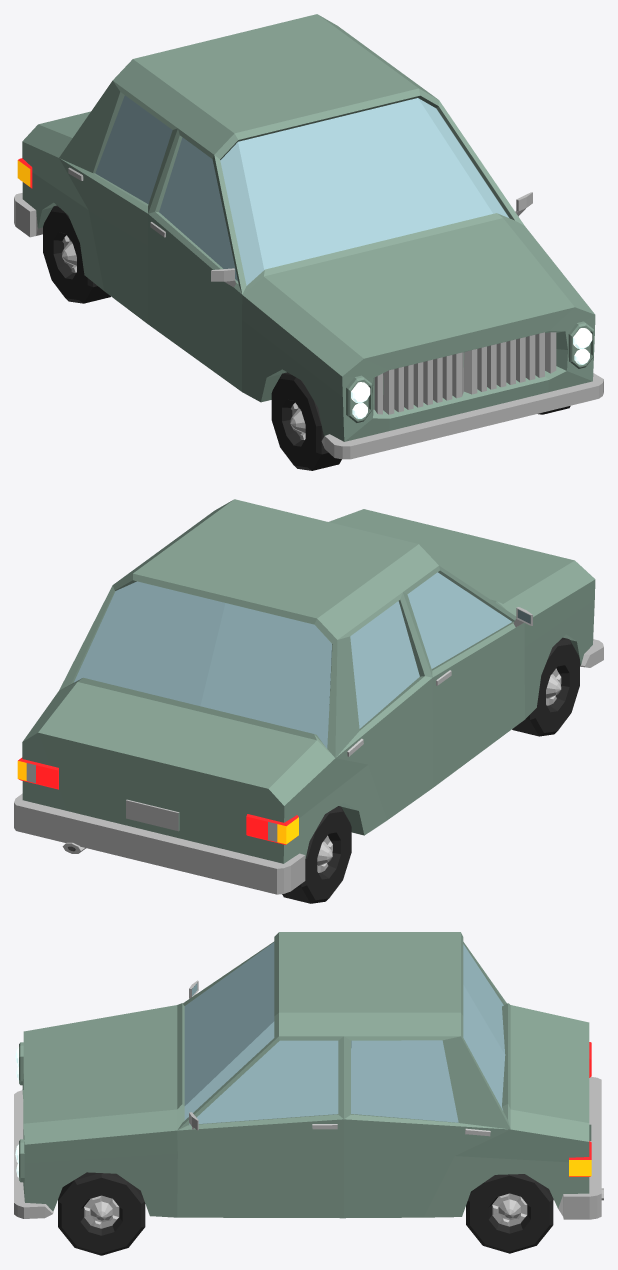
The model's file is sedan9.fbx.
The picture shows the model from 3 angles, top to bottom: view 1: azimuth 30°, elevation 25°; view 2: azimuth 150°, elevation 25°; view 3: azimuth 270°, elevation 25°; orthographic projection. The views are drawn at different scales.
Parts seen in each view (by area): view 1: Sedan, Wheel.FR, Wheel.RR, Headlights; view 2: Sedan, Wheel.RR, Wheel.FR; view 3: Sedan, Wheel.FL, Wheel.RL.
Boxes of the visible parts, left/top/right/bottom form: Sedan: left=14, top=14, right=603, bottom=459; Wheel.FR: left=271, top=372, right=341, bottom=470; Wheel.RR: left=43, top=205, right=110, bottom=303; Headlights: left=351, top=328, right=592, bottom=418; Sedan: left=14, top=499, right=603, bottom=894; Wheel.RR: left=282, top=806, right=351, bottom=903; Wheel.FR: left=512, top=637, right=579, bottom=736; Sedan: left=14, top=932, right=601, bottom=1219; Wheel.FL: left=58, top=1172, right=145, bottom=1255; Wheel.RL: left=466, top=1174, right=553, bottom=1253.
Size of the model in its own units: 200 by 151 by 354.
